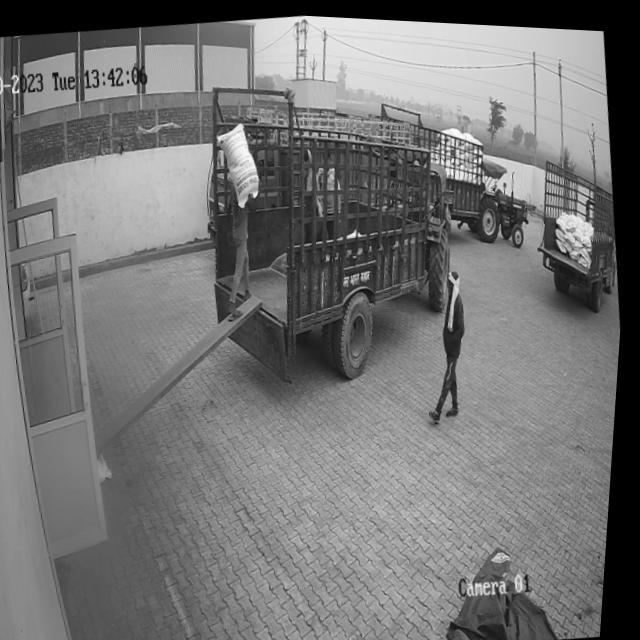sack: (214, 116, 267, 208)
